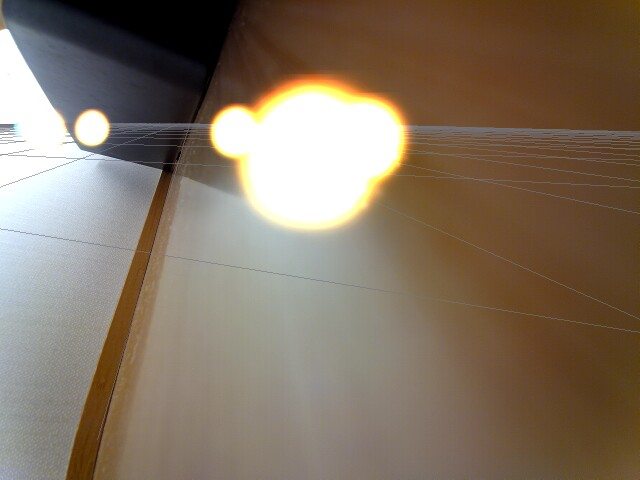firebig: (248, 49, 408, 243)
